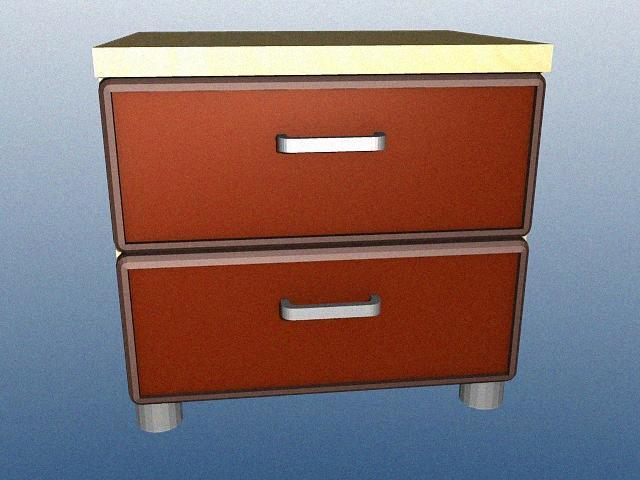cabinet_door: (118, 89, 531, 236), (134, 258, 516, 388)
handle: (272, 126, 391, 158), (274, 295, 383, 325)
